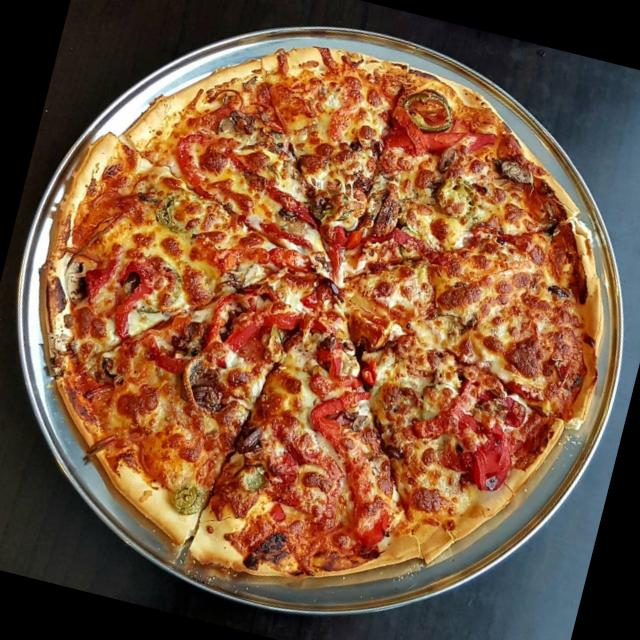peppers: (383, 106, 504, 176), (298, 372, 384, 464), (396, 368, 476, 455), (228, 294, 316, 366), (459, 424, 520, 492), (312, 214, 372, 278), (107, 256, 152, 334)
pizza: (38, 48, 596, 576)
